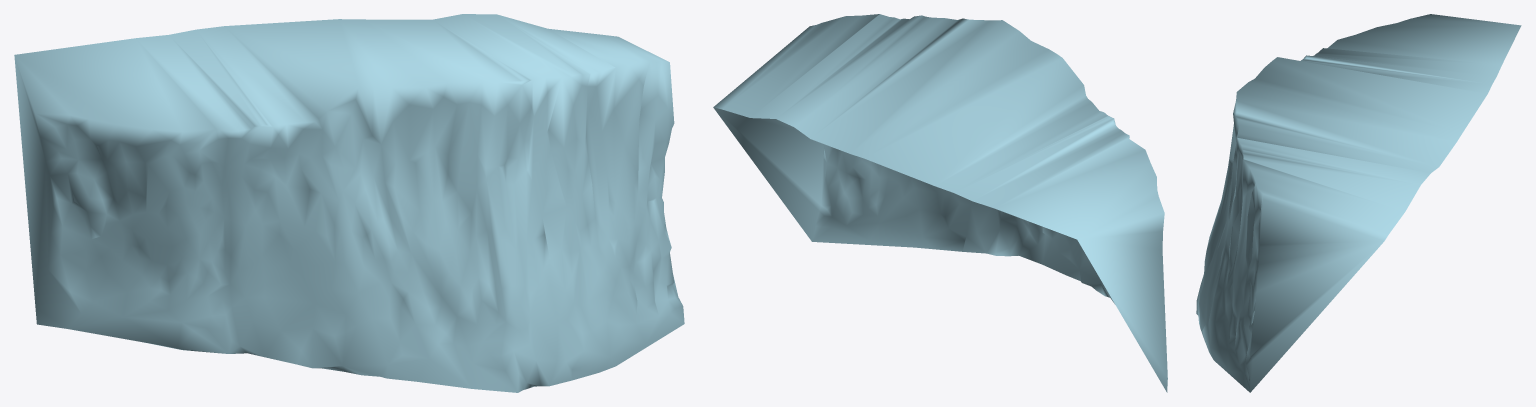
The model's file is Glacier_3.fbx.
3 renders of one model, left to right at view 1: azimuth 30°, elevation 25°; view 2: azimuth 150°, elevation 25°; view 3: azimuth 270°, elevation 25°, orthographic. The views are drawn at different scales.
Parts seen in each view (by area): view 1: Glacier 1.018; view 2: Glacier 1.018; view 3: Glacier 1.018.
Part boxes in pixels (<box>): Glacier 1.018: <box>14,14,684,392</box>; Glacier 1.018: <box>713,14,1167,392</box>; Glacier 1.018: <box>1196,14,1521,392</box>.
Bounding box in the file's own units: 11629 × 6071 × 7933.
